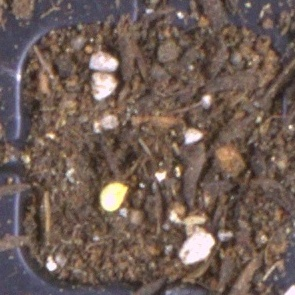chilli seed: (98, 181, 129, 212)
